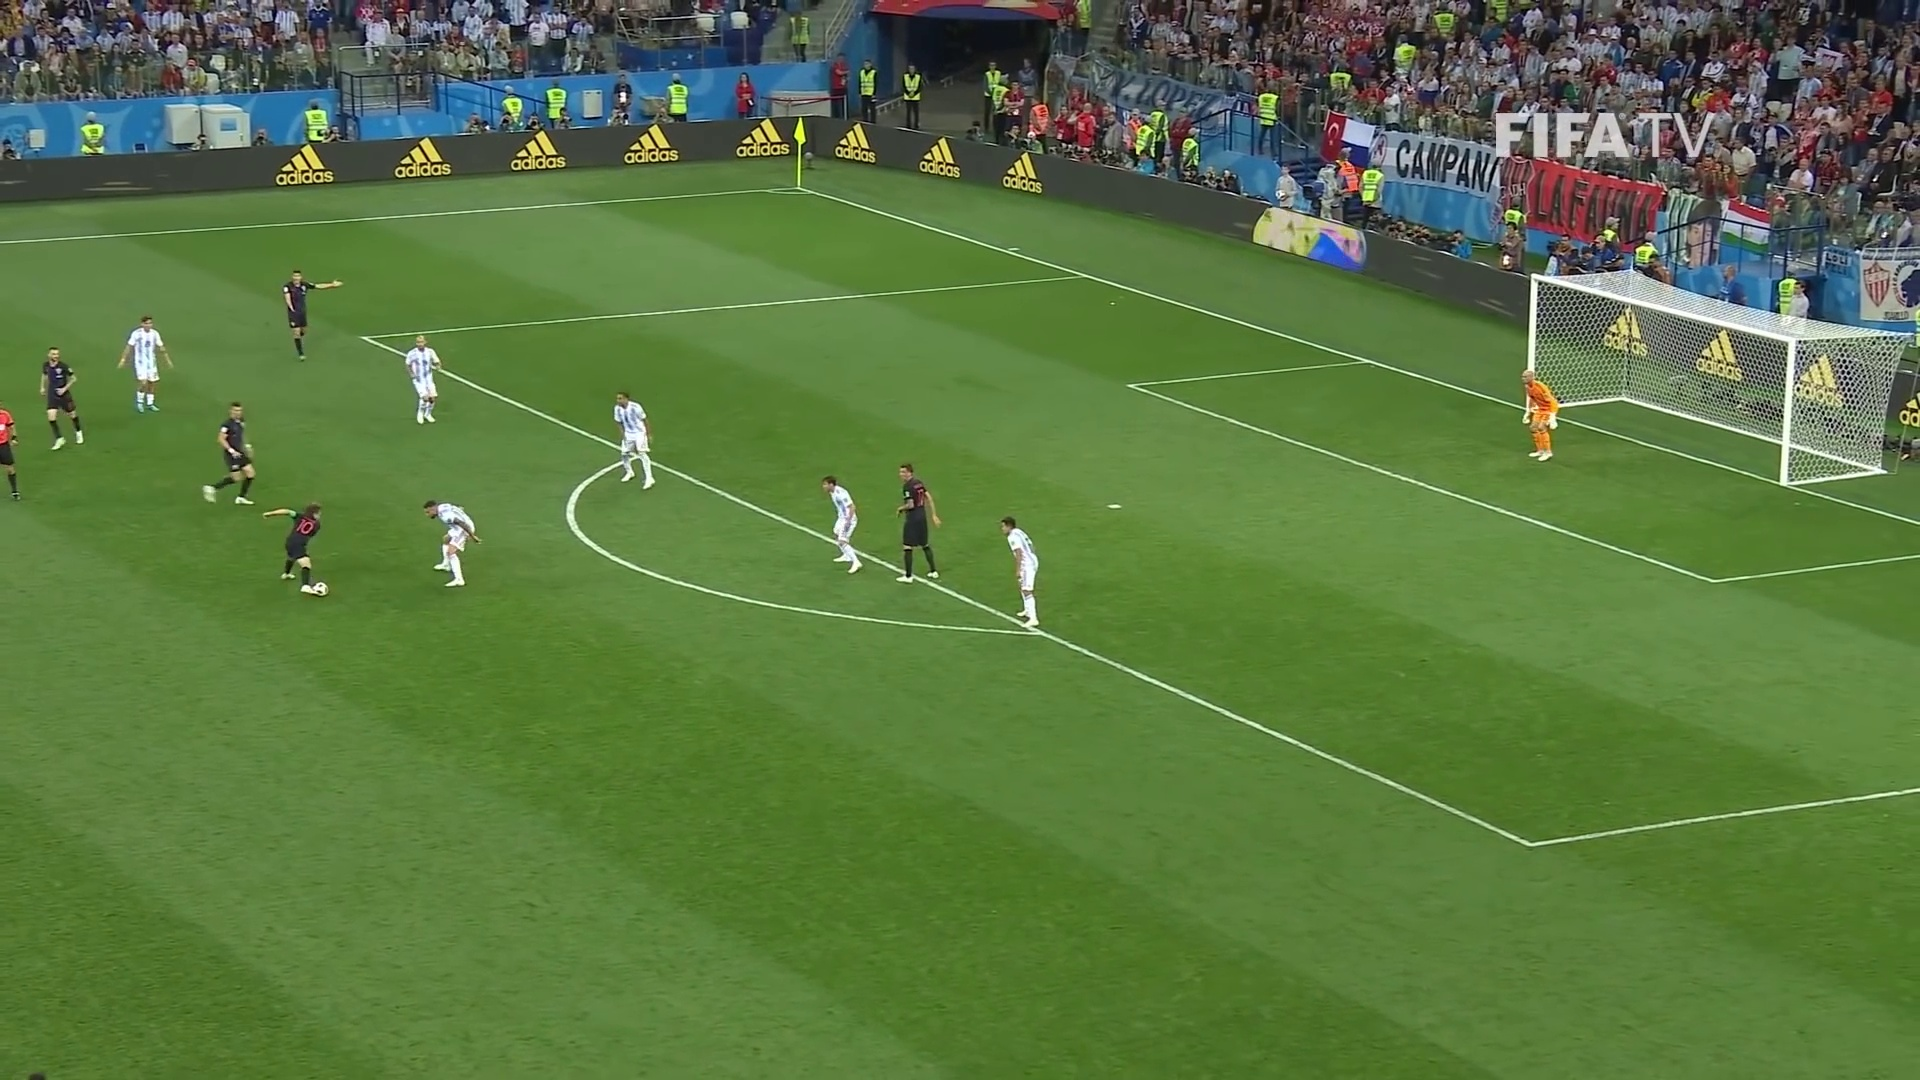ball: (314, 582, 329, 594)
person: (207, 403, 258, 508), (896, 465, 940, 584), (118, 315, 170, 411), (1000, 518, 1045, 630), (264, 500, 317, 594), (38, 346, 85, 448), (423, 501, 479, 586), (288, 273, 341, 359), (610, 391, 651, 489), (822, 477, 862, 573), (1518, 371, 1559, 458), (404, 333, 441, 422)
